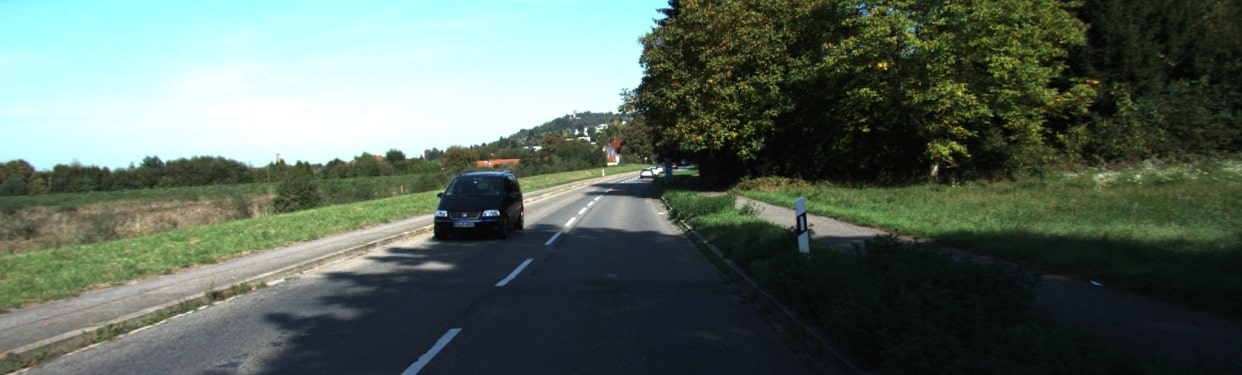car: (435, 169, 525, 240), (636, 167, 652, 180)
